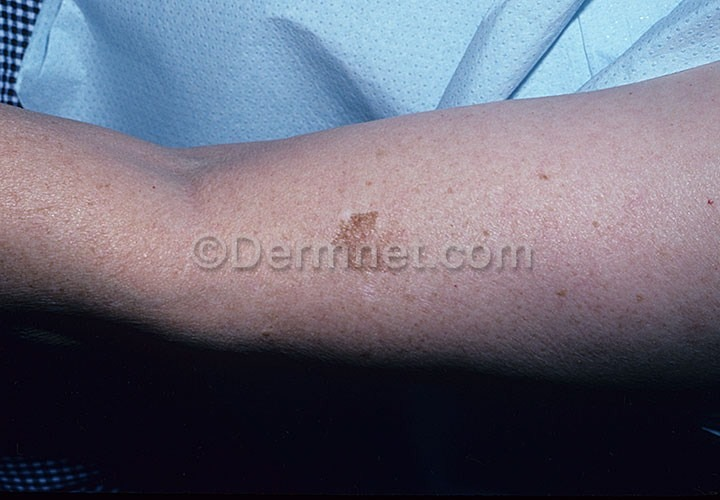Melasma: (313, 193, 389, 241), (245, 316, 311, 350)
